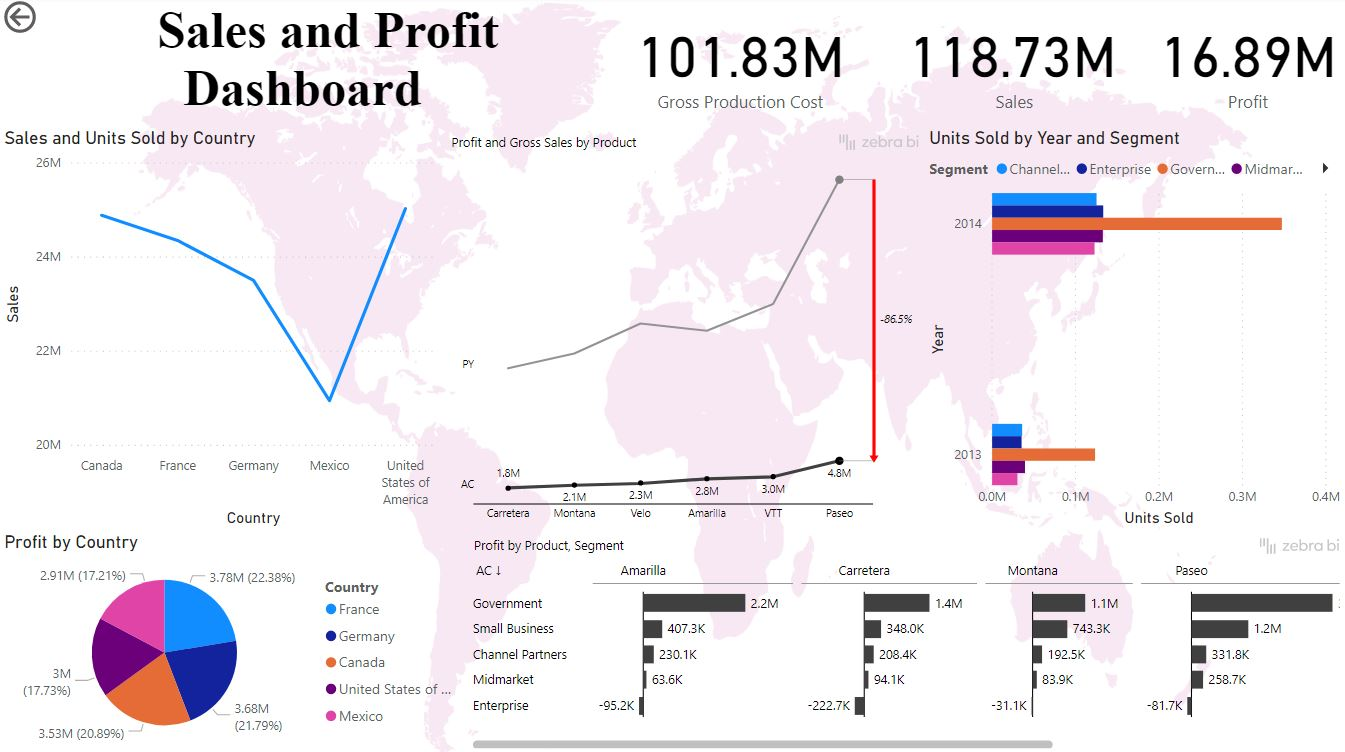

What the dashboard file says about the page in this screenshot:
{"tool":"powerbi","page":{"name":"Sales and Profit","canvas":[1280,720],"ordinal":0},"visuals":[{"type":"card","fields":{"Values":["Sum(financials.Profit)"]},"box":[1094,0,186,124.4],"z":0},{"type":"card","fields":{"Values":["Sum(financials. Sales)"]},"box":[831.5,0,262.6,124.4],"z":1000},{"type":"lineChart","fields":{"Category":["financials.Country","financials.Date.Variation.Date Hierarchy.Year","financials.Date.Variation.Date Hierarchy.Quarter","financials.Date.Variation.Date Hierarchy.Month","financials.Date.Variation.Date Hierarchy.Day"],"Y":["Sum(financials. Sales)"]},"box":[0,475.2,343.4,244.8],"z":2000},{"type":"card","fields":{"Values":["Sum(financials.COGS)"]},"box":[577.1,0,254.4,124.4],"z":3000},{"type":"textbox","box":[153.3,0,432.5,124.8],"z":4000},{"type":"waterfall6C9ED82ABD1F44C4A0D590CE01EB5EE7","title":"Profit and Gross Sales by Product","fields":{"Category":["financials.Product"],"Values":["Sum(financials.Profit)"],"PreviousYear":["Sum(financials.Gross Sales)"]},"box":[424.2,124.8,455,350.5],"z":5000},{"type":"variance8E4BB1B41A8942A7B897C7014A6E1F56","fields":{"Category":["financials.Segment"],"Group":["financials.Product"],"Values":["Sum(financials.Profit)"]},"box":[343.4,475.2,535.8,244.8],"z":6000},{"type":"ZoomChartsPieChartPaidE77E4ED357DC402ABA005987437CF500","fields":{"Category":["financials.Country","financials.Segment"],"Values":["Sum(financials.Profit)"]},"box":[0,124.8,424.2,350.5],"z":7000},{"type":"clusteredBarChart","fields":{"Category":["financials.Date.Variation.Date Hierarchy.Year","financials.Date.Variation.Date Hierarchy.Quarter","financials.Date.Variation.Date Hierarchy.Month"],"Y":["Sum(financials.Units Sold)"],"Series":["financials.Segment"]},"box":[879.2,124.8,400.4,255.4],"z":8000},{"type":"map","fields":{"Category":["financials.Country"],"Size":["Sum(financials.Gross Sales)"]},"box":[879.2,380.2,400.4,339.8],"z":9000},{"type":"image","box":[0,0,153.3,124.8],"z":10001}]}

Visuals, with their boxes in screenshot pixels (x1, y1, x2, y2), scaled from the page's 1280x720 canvas onto the 1345x752 screenshot:
card - Sum(financials.Profit): detection(1150, 0, 1344, 130)
card - Sum(financials. Sales): detection(874, 0, 1150, 130)
lineChart - financials.Country x financials.Date.Variation.Date Hierarchy.Year: detection(0, 496, 361, 751)
card - Sum(financials.COGS): detection(606, 0, 874, 130)
textbox: detection(161, 0, 616, 130)
"Profit and Gross Sales by Product" waterfall6C9ED82ABD1F44C4A0D590CE01EB5EE7: detection(446, 130, 924, 496)
variance8E4BB1B41A8942A7B897C7014A6E1F56 - financials.Segment x financials.Product: detection(361, 496, 924, 751)
ZoomChartsPieChartPaidE77E4ED357DC402ABA005987437CF500 - financials.Country x financials.Segment: detection(0, 130, 446, 496)
clusteredBarChart - financials.Date.Variation.Date Hierarchy.Year x financials.Date.Variation.Date Hierarchy.Quarter: detection(924, 130, 1344, 397)
map - financials.Country x Sum(financials.Gross Sales): detection(924, 397, 1344, 751)
image: detection(0, 0, 161, 130)
